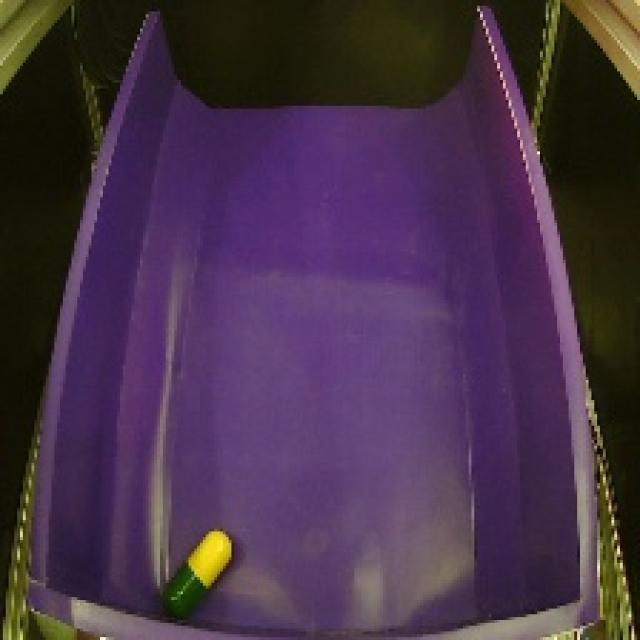small: (153, 520, 245, 628)
